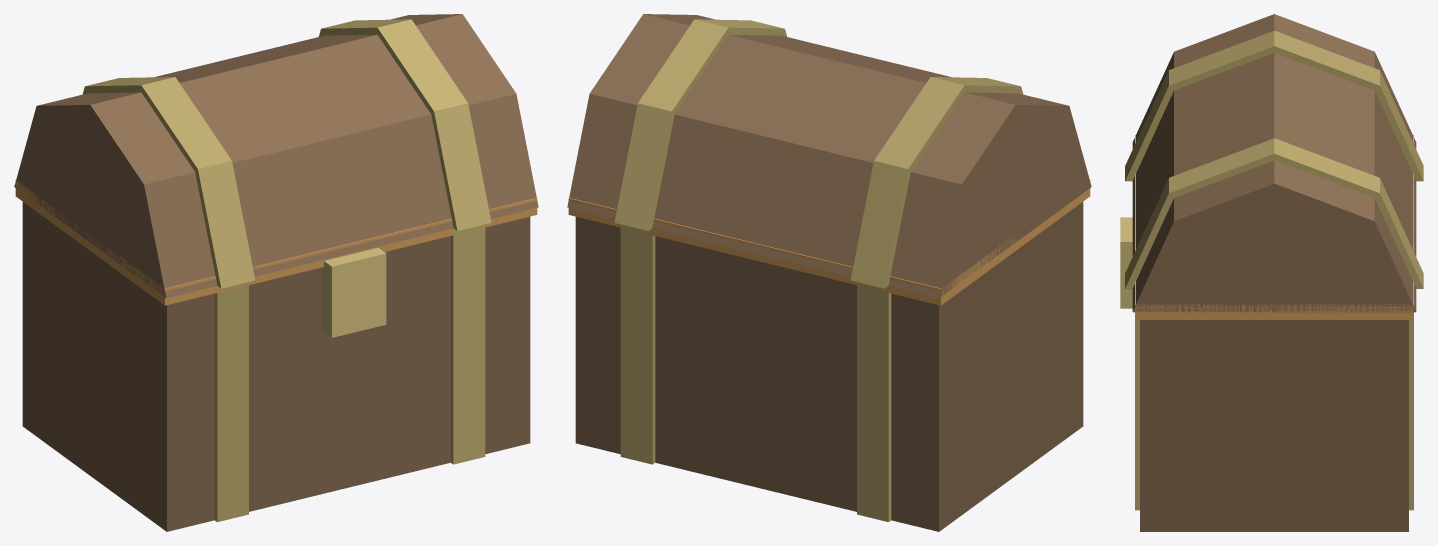
File: chest.glb
The picture shows the model from 3 angles, left to right: view 1: azimuth 30°, elevation 25°; view 2: azimuth 150°, elevation 25°; view 3: azimuth 270°, elevation 25°; orthographic projection. The views are drawn at different scales.
Visible parts, largest first — view 1: chest; view 2: chest; view 3: chest.
Boxes of the visible parts, <box> form: chest: <box>14,14,538,531</box>; chest: <box>567,14,1091,531</box>; chest: <box>1120,14,1423,531</box>.
Size of the model in its own units: 0.82 by 0.805 by 0.62.
